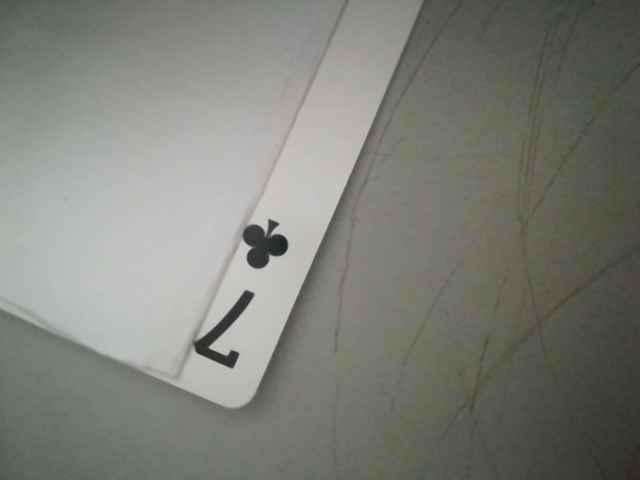mh 7: (188, 206, 299, 387)
